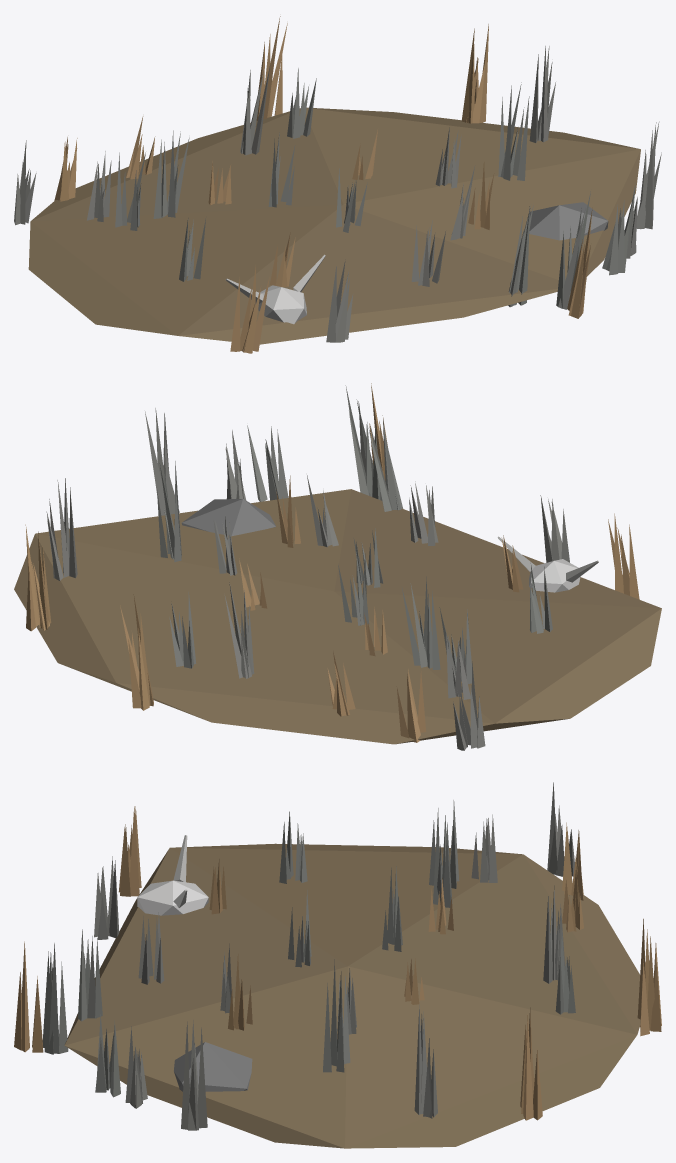
The model's file is lair-prairie.glb.
The picture shows the model from 3 angles, top to bottom: view 1: azimuth 30°, elevation 25°; view 2: azimuth 150°, elevation 25°; view 3: azimuth 270°, elevation 25°; orthographic projection. The views are drawn at different scales.
Parts seen in each view (by area): view 1: lair-prairie; view 2: lair-prairie; view 3: lair-prairie.
Boxes of the visible parts, x1=… form: lair-prairie: x1=14, y1=16, x2=661, y2=353; lair-prairie: x1=14, y1=383, x2=661, y2=750; lair-prairie: x1=14, y1=782, x2=661, y2=1148.
Size of the model in its own units: 5.83 by 1.11 by 5.01.
